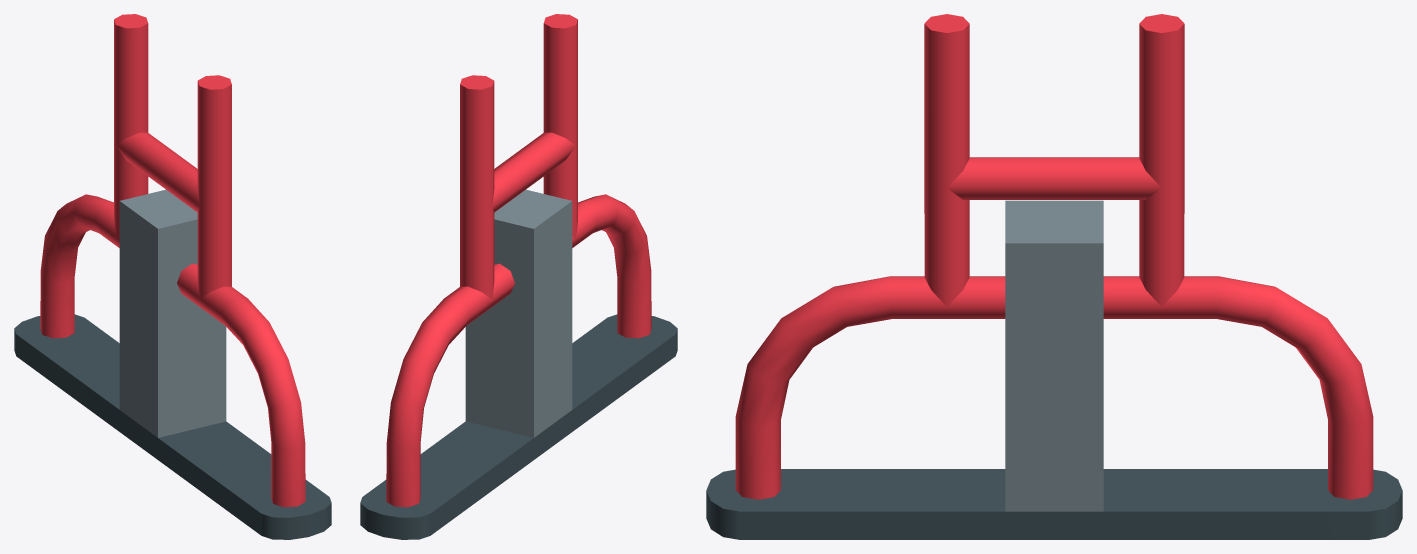
The model's file is Short_column_008.fbx.
3 renders of one model, left to right at view 1: azimuth 30°, elevation 25°; view 2: azimuth 150°, elevation 25°; view 3: azimuth 270°, elevation 25°, orthographic. The views are drawn at different scales.
Visible parts, largest first — view 1: Short_column_008; view 2: Short_column_008; view 3: Short_column_008.
Part boxes in pixels (bbox=[...]): Short_column_008: bbox=[14, 14, 331, 539]; Short_column_008: bbox=[360, 14, 677, 539]; Short_column_008: bbox=[706, 14, 1402, 539].
Size of the model in its own units: 24.06 by 166 by 130.
